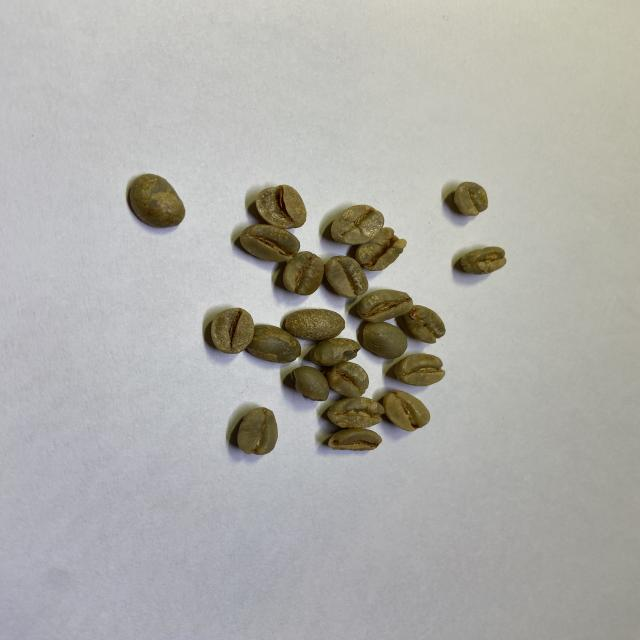bad: (356, 226, 406, 271), (304, 337, 361, 368), (327, 397, 382, 428), (290, 365, 330, 402), (459, 246, 506, 275), (326, 428, 382, 452), (455, 181, 488, 217)
good: (128, 173, 186, 230), (255, 184, 307, 230), (233, 405, 279, 456), (240, 225, 299, 263), (330, 204, 384, 245), (248, 322, 302, 363), (209, 307, 254, 355), (384, 389, 431, 432), (325, 254, 368, 299), (398, 304, 446, 344), (284, 308, 345, 339), (283, 251, 324, 296), (360, 322, 408, 359), (358, 289, 413, 321), (397, 353, 445, 387), (327, 362, 369, 398)
